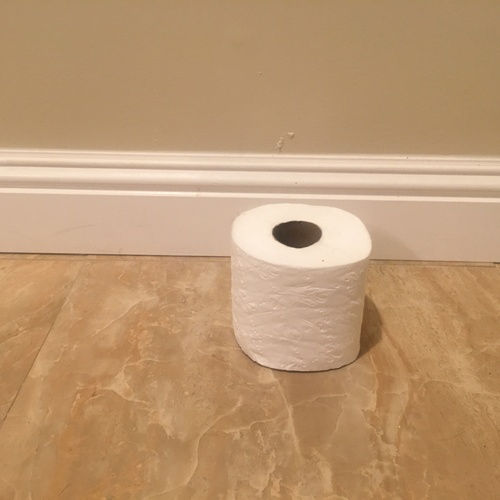roll: (231, 202, 372, 373)
